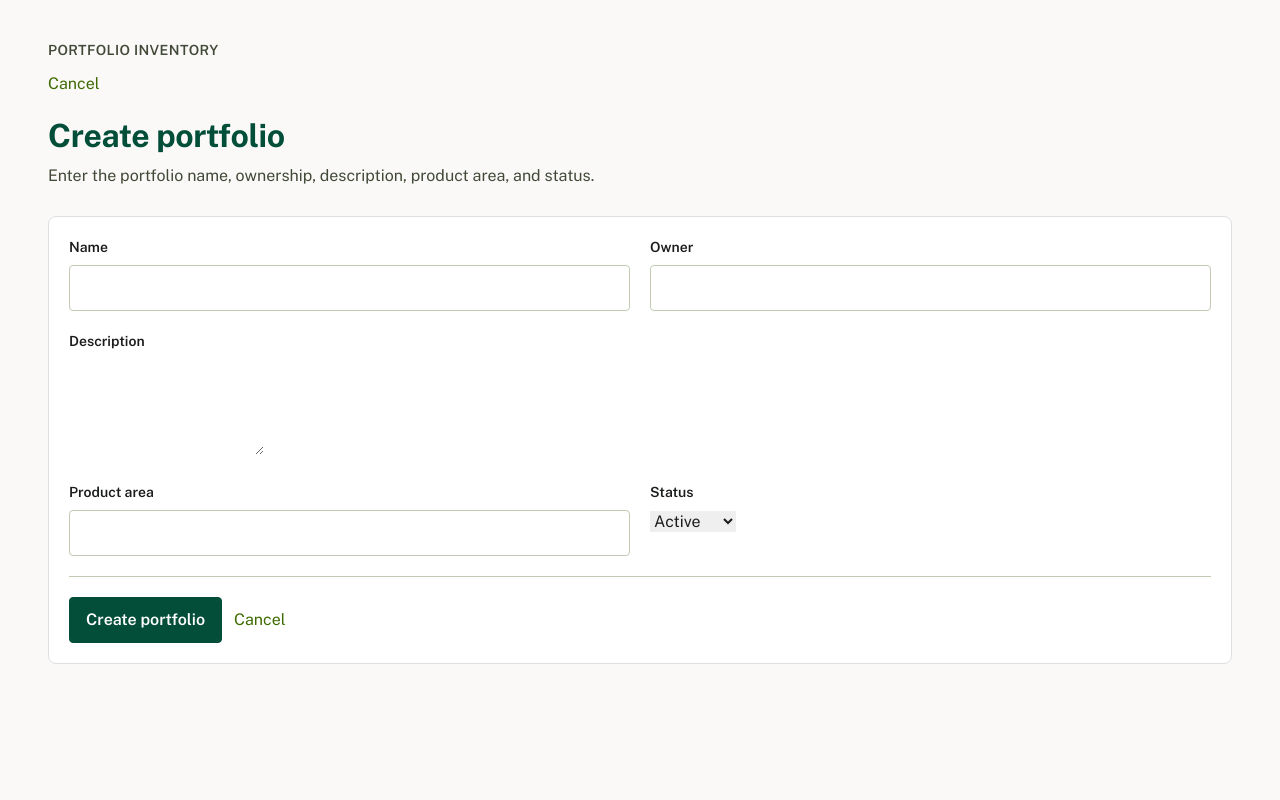
Scenario: PortfolioFormPage › displays a failed create response and keeps the rendered form available
The width and height of the screenshot is (1280, 800).
Expected: the form "Create portfolio" is shown, x1=48 y1=216 x2=1232 y2=664
In the field labelled "Name": {"x": 350, "y": 288} x1=69 y1=265 x2=630 y2=311, type "Payments portfolio"
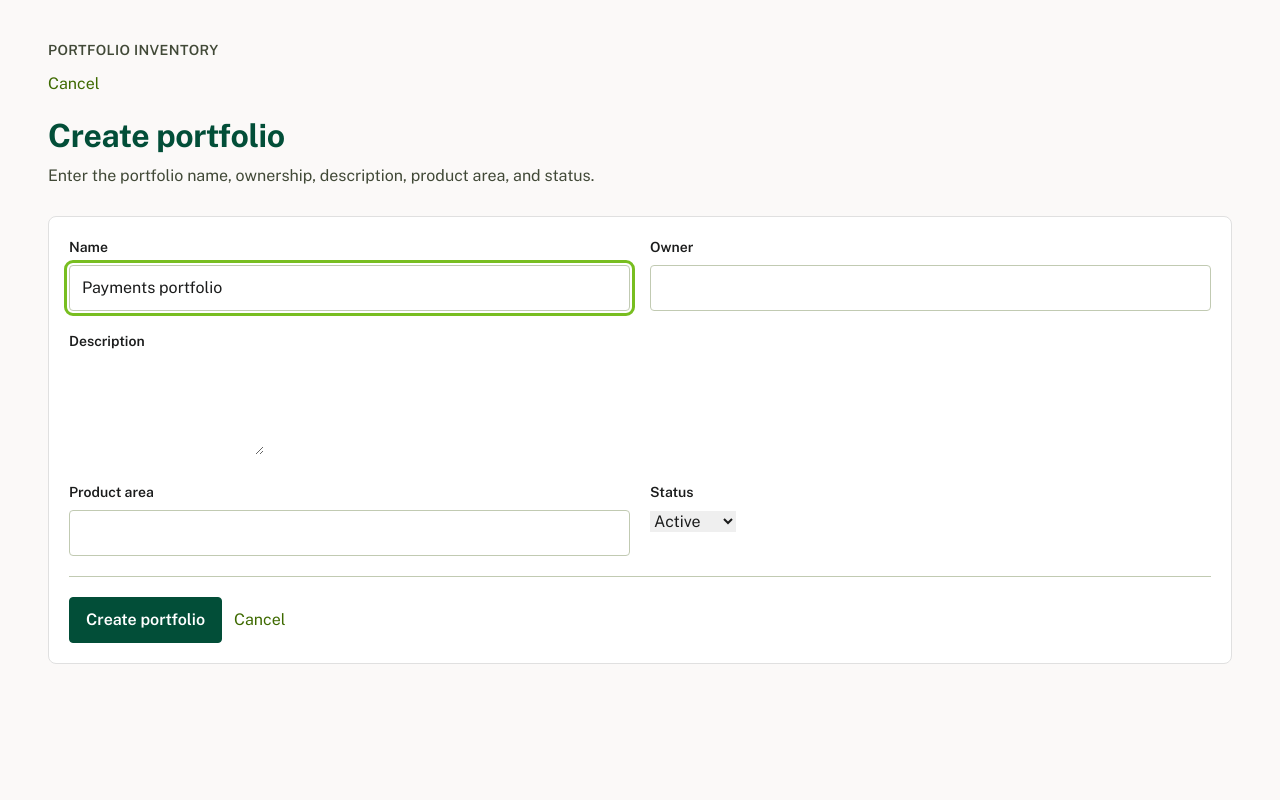
In the field labelled "Owner": {"x": 930, "y": 288} x1=650 y1=265 x2=1211 y2=311, type "Payments group"
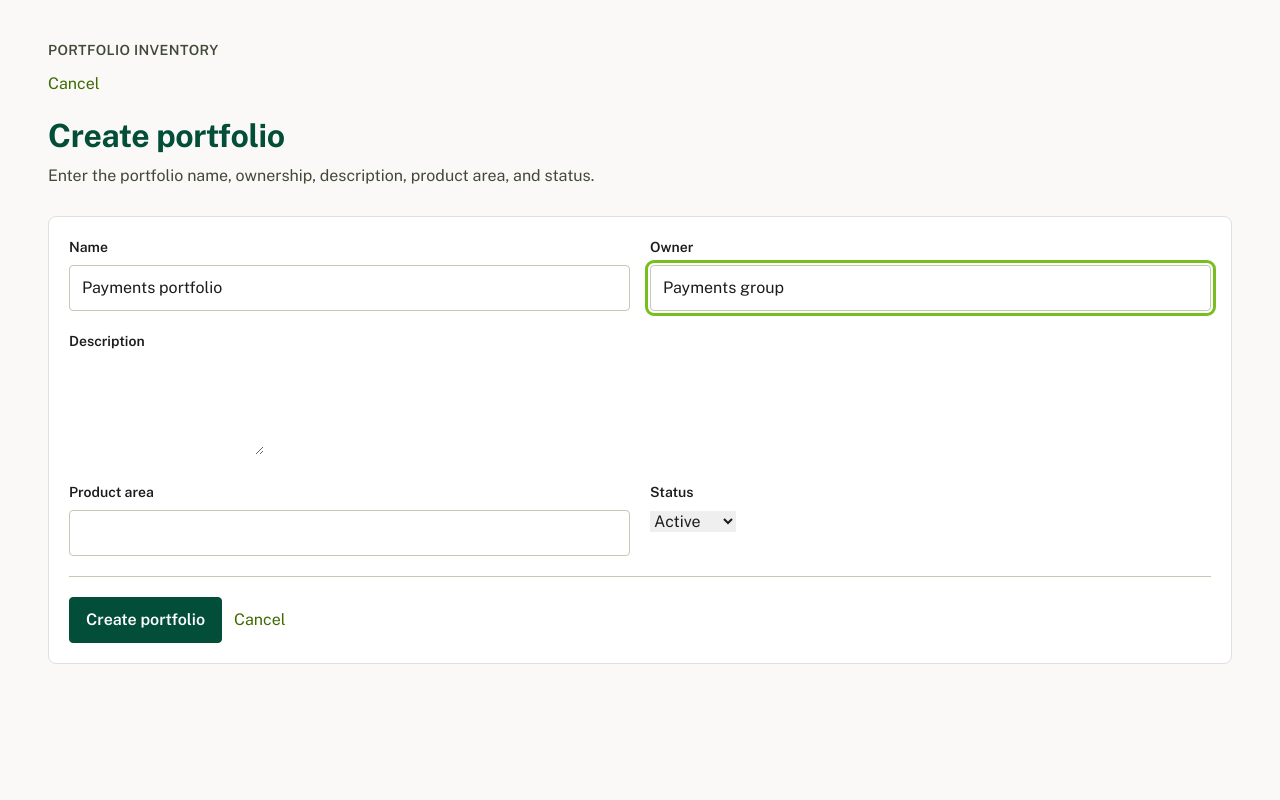
In the text box labelled "Description": {"x": 166, "y": 407} x1=69 y1=359 x2=264 y2=455, type "Payments investment portfolio"
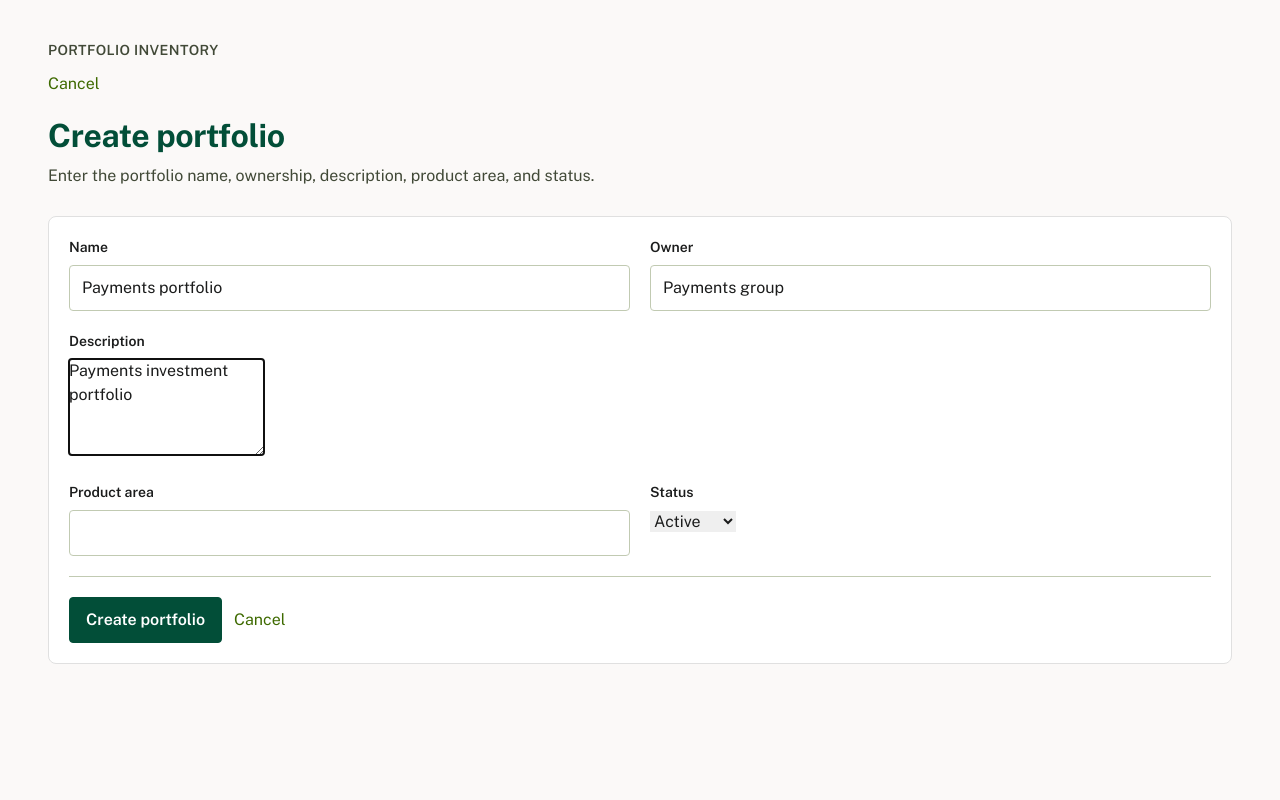
In the field labelled "Product area": {"x": 350, "y": 533} x1=69 y1=510 x2=630 y2=556, type "Payments"
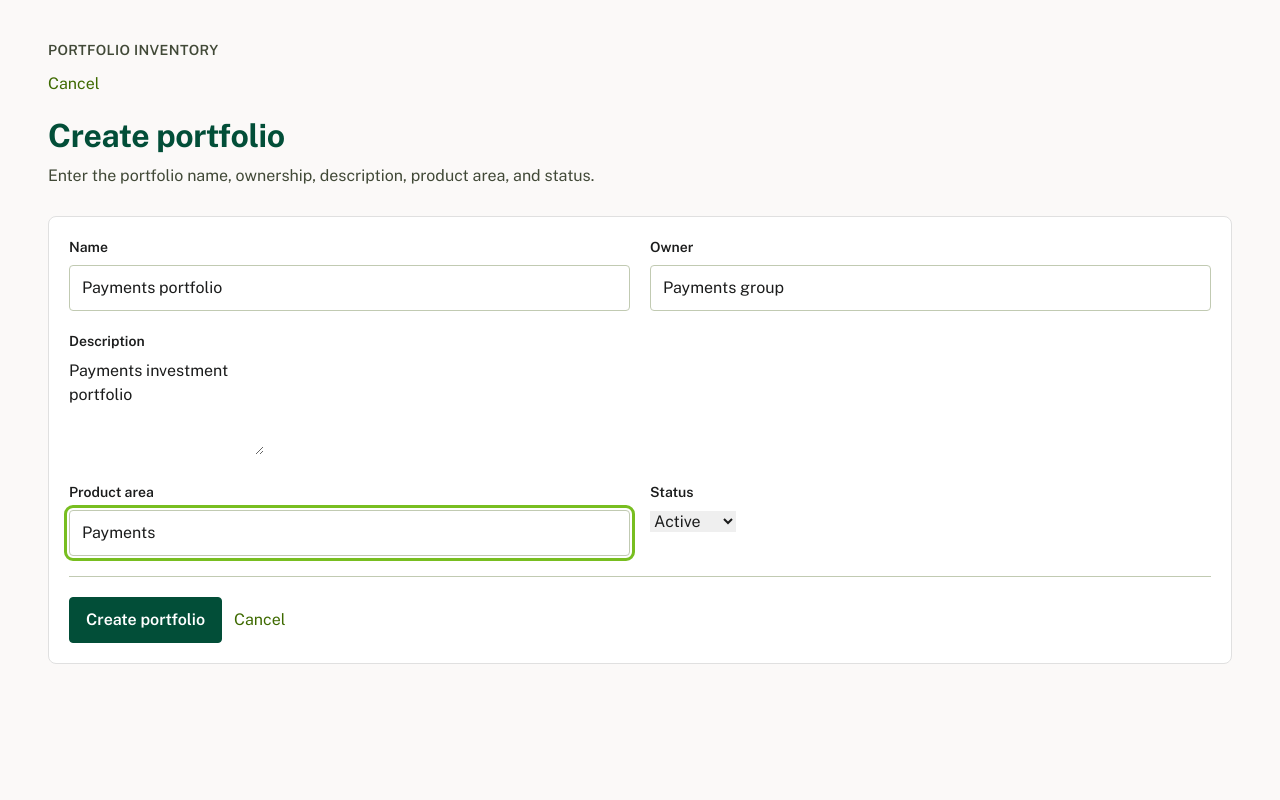
Click the button "Create portfolio": {"x": 146, "y": 620} x1=69 y1=597 x2=222 y2=643
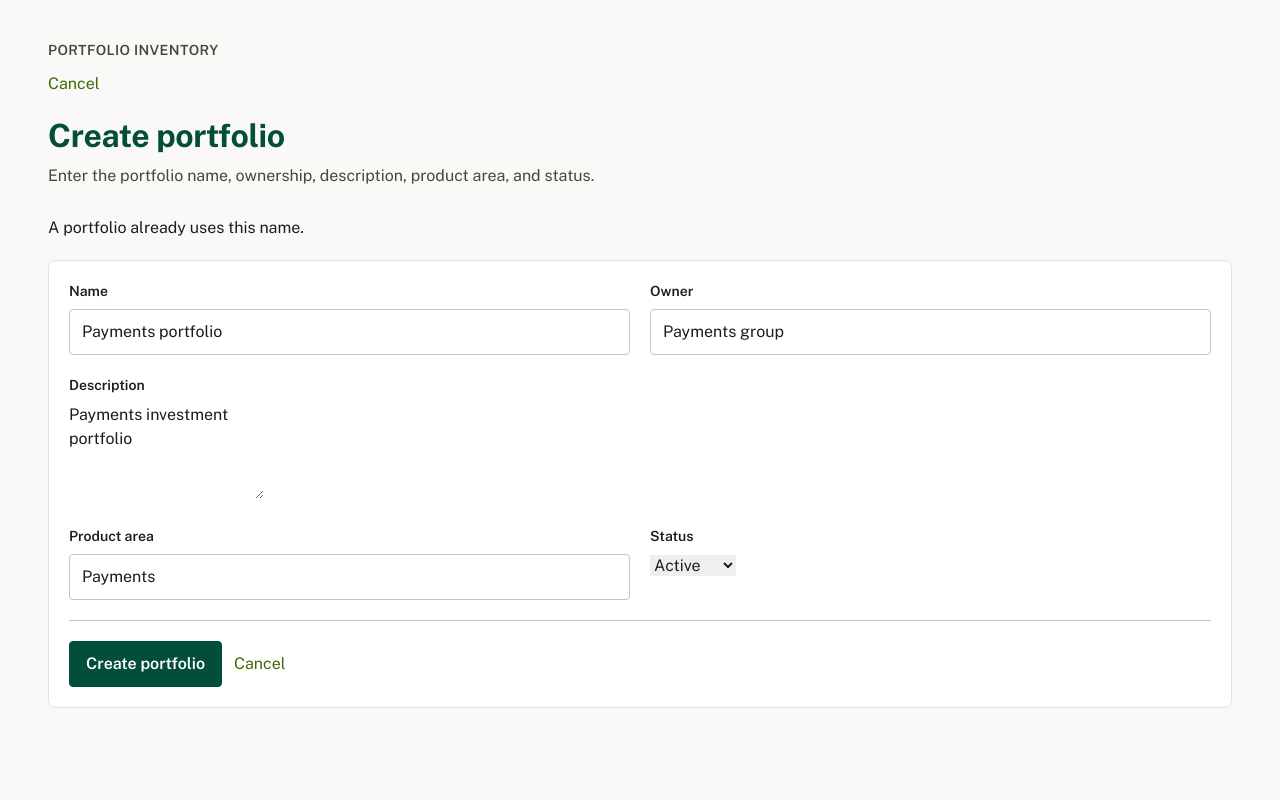
Expected: the form "Create portfolio" is shown, x1=48 y1=260 x2=1232 y2=708
Now the message reads "A portfolio already uses this name.", box x1=48 y1=218 x2=304 y2=237
